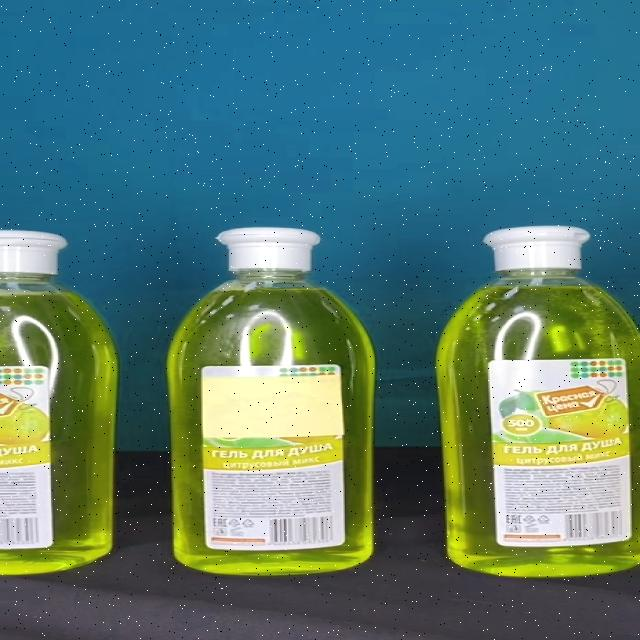Bottle: (166, 226, 377, 574), (434, 227, 640, 578)
Cap: (484, 227, 590, 272), (217, 228, 322, 270)
